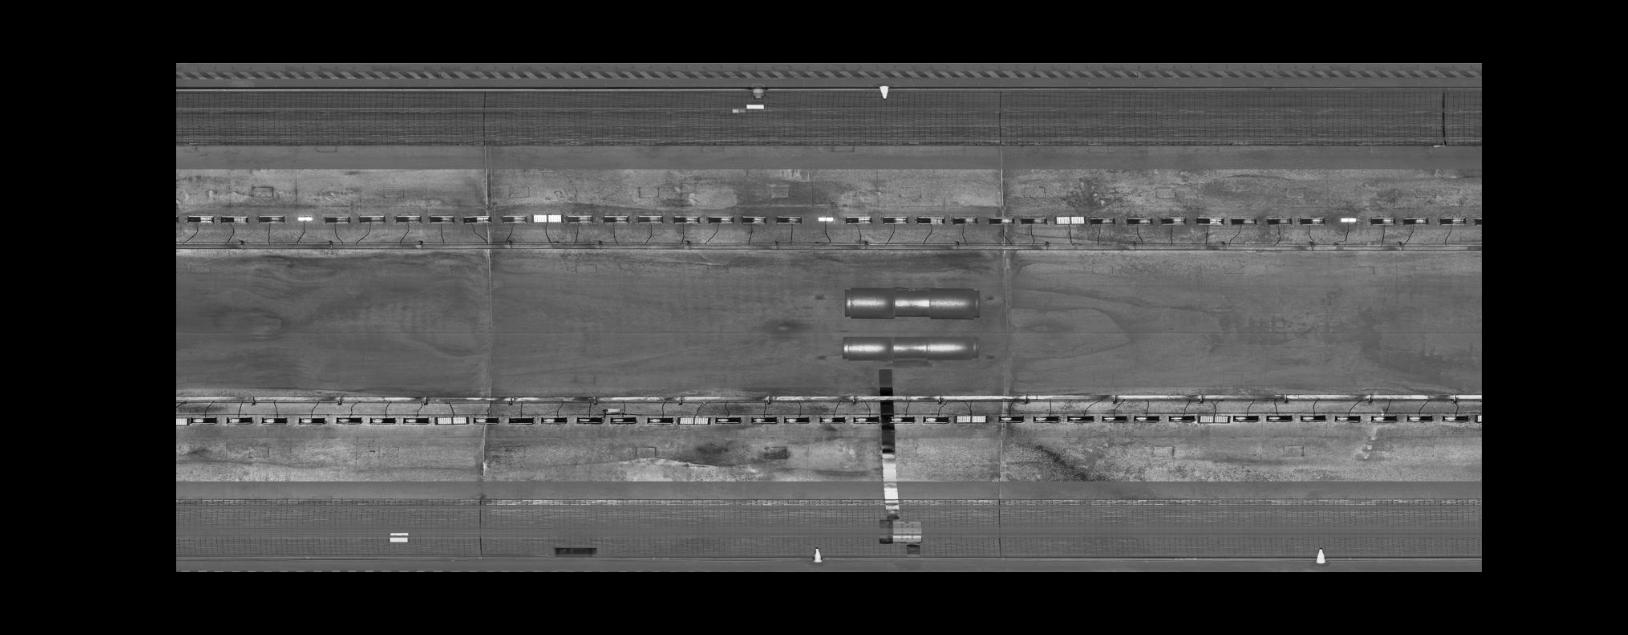light: (432, 414, 470, 426), (1193, 215, 1227, 228), (1052, 214, 1086, 227), (1195, 413, 1231, 425), (954, 413, 991, 425), (676, 414, 712, 426), (564, 212, 597, 225), (1019, 214, 1050, 227), (670, 213, 703, 225), (530, 212, 563, 224), (1159, 214, 1189, 227), (357, 212, 387, 225), (460, 213, 492, 225), (505, 414, 537, 426), (217, 214, 251, 225), (1437, 214, 1468, 226), (601, 213, 632, 225), (749, 414, 780, 426), (574, 414, 605, 426), (914, 215, 947, 226), (333, 414, 367, 425), (295, 415, 328, 426), (222, 414, 255, 425), (1367, 215, 1398, 227), (1228, 216, 1258, 228), (986, 214, 1016, 226), (950, 214, 980, 226), (634, 213, 664, 225), (392, 213, 423, 225), (851, 414, 881, 426), (714, 413, 744, 425), (184, 214, 216, 225), (1440, 412, 1472, 423), (367, 415, 399, 426), (257, 415, 290, 426), (1124, 215, 1154, 227), (705, 214, 736, 225), (498, 213, 530, 224), (1230, 412, 1261, 423), (887, 414, 918, 425), (470, 414, 501, 425), (1087, 216, 1117, 227), (880, 214, 911, 225), (427, 213, 457, 224), (322, 214, 352, 225), (817, 414, 847, 425), (782, 414, 812, 425), (645, 415, 675, 426), (1296, 216, 1328, 226), (254, 214, 287, 224), (1265, 216, 1294, 227), (739, 215, 768, 226), (609, 415, 639, 426), (1400, 216, 1431, 226), (1332, 413, 1363, 423), (1296, 413, 1327, 423), (1263, 413, 1294, 423), (538, 415, 569, 425), (189, 415, 220, 425), (922, 414, 950, 425), (843, 214, 873, 224), (1131, 413, 1161, 423), (995, 414, 1025, 424), (401, 416, 431, 426), (1404, 414, 1436, 423), (1367, 414, 1400, 423), (1064, 414, 1096, 423), (1031, 414, 1063, 423), (772, 215, 804, 224), (1167, 414, 1197, 423), (1100, 414, 1128, 422), (1337, 215, 1360, 224), (293, 215, 316, 223), (815, 215, 835, 224), (177, 416, 189, 426), (1473, 410, 1481, 425), (1472, 214, 1481, 227)
